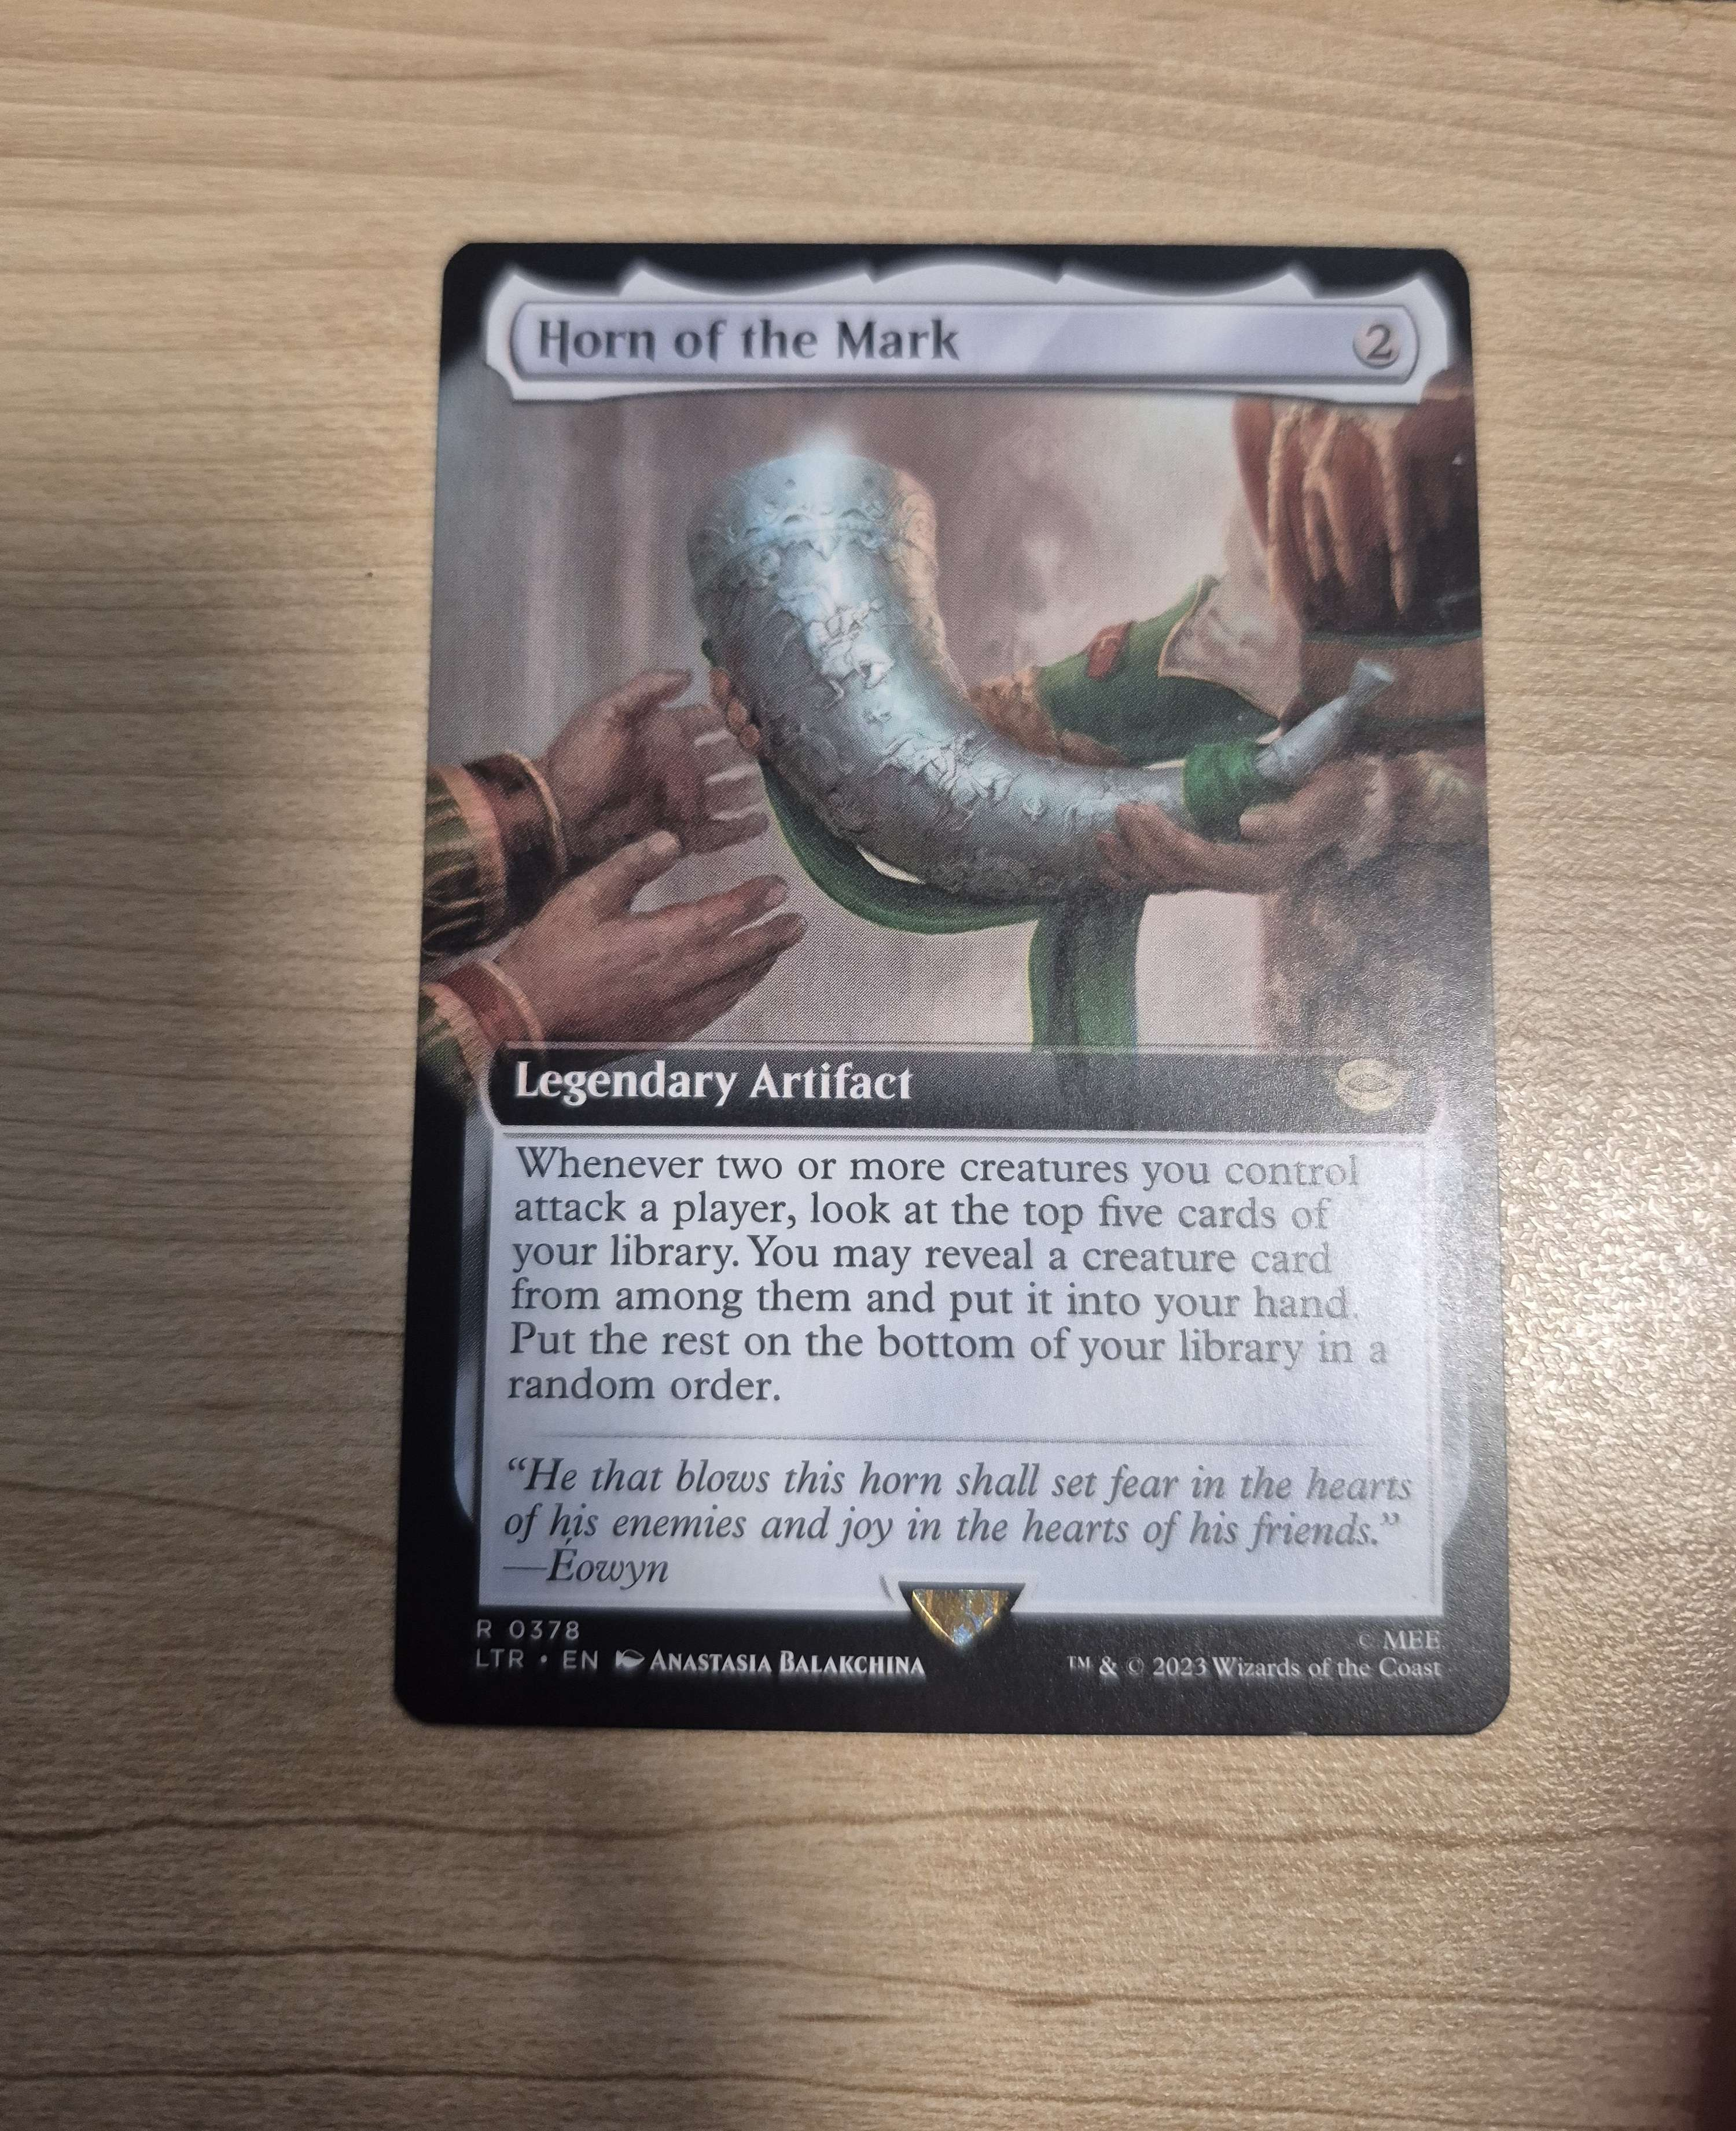mtg_card: (391, 200, 1550, 1786)
